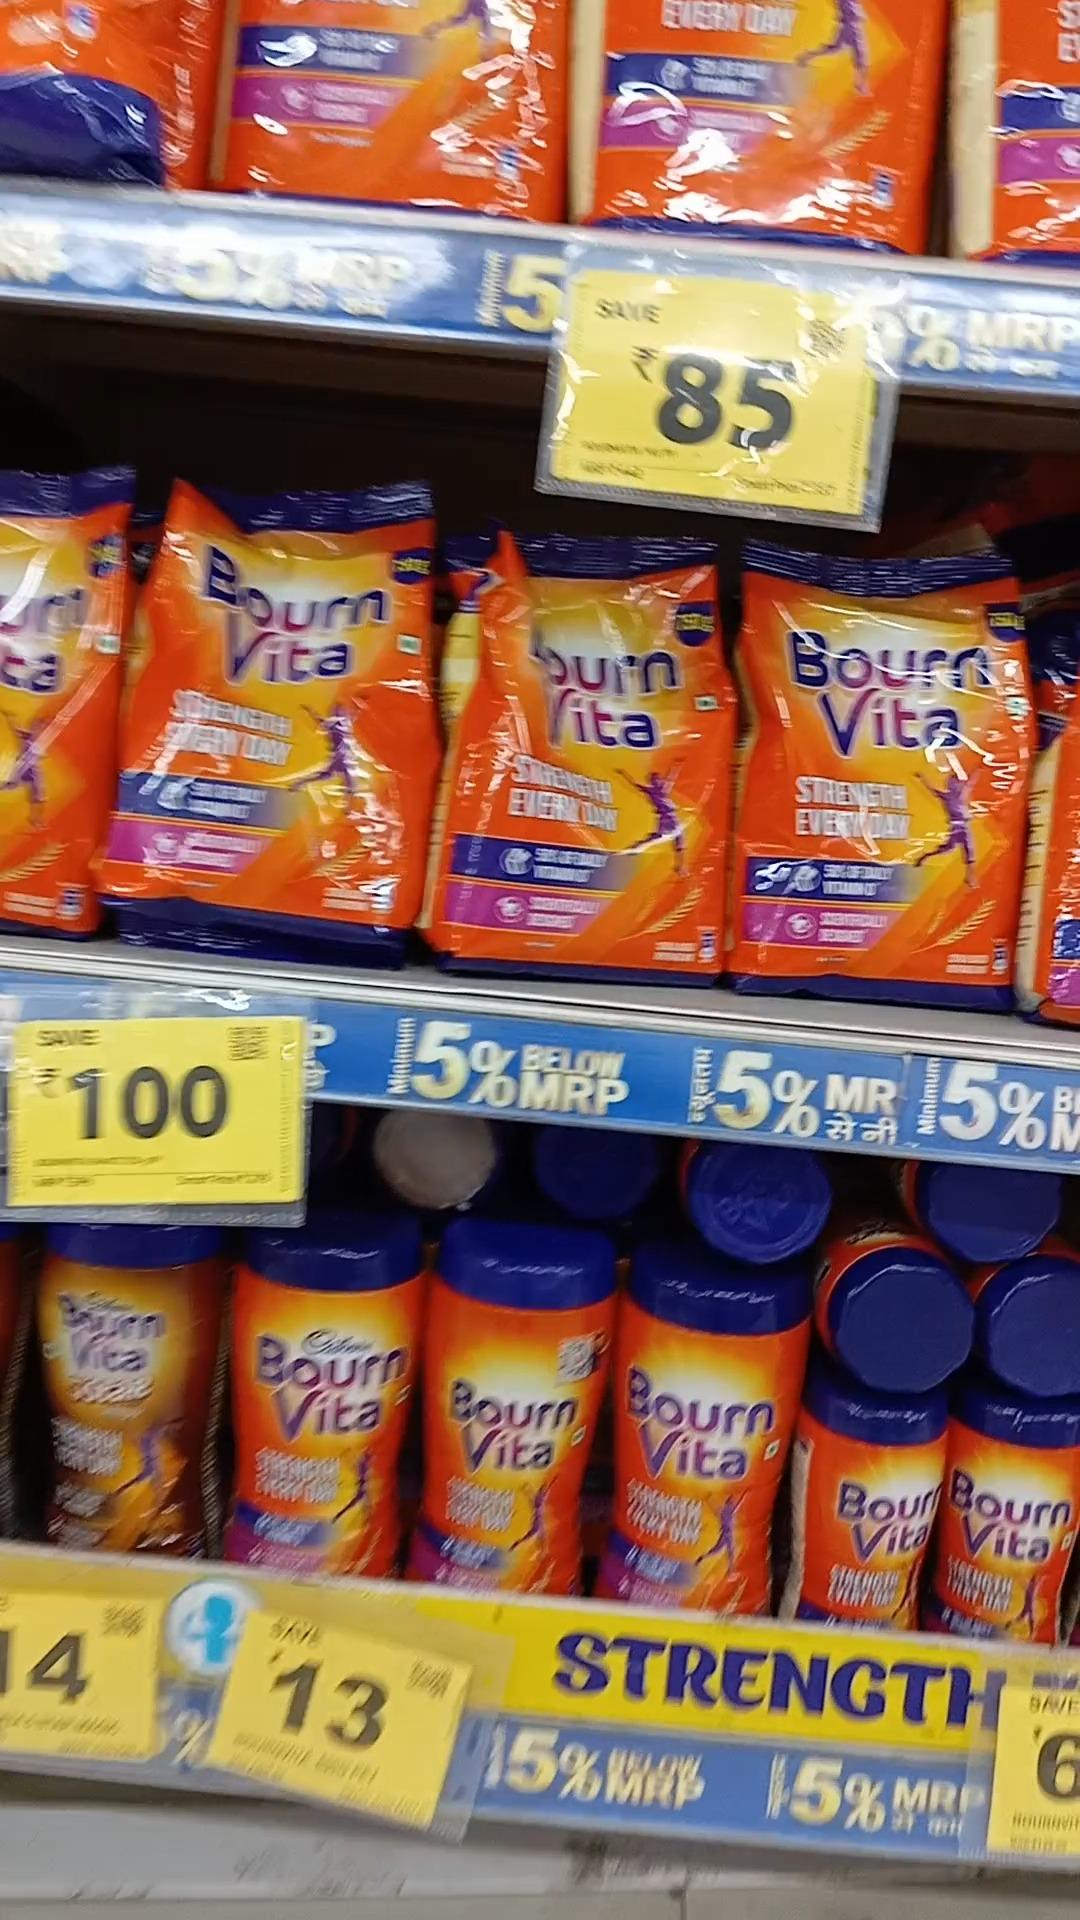BOURN_VITA_200_G_JAR: (795, 1389, 928, 1633), (953, 1379, 1071, 1640)
BOURN_VITA_500_G_JAR: (427, 1213, 576, 1593), (620, 1258, 774, 1606), (240, 1238, 398, 1564)
BOURN_VITA_750_G_POUCH: (456, 525, 724, 985), (152, 481, 409, 949), (741, 543, 1001, 988)
BOURN_VITA_FIVE_STAR_MAGIC_500_G_JAR: (38, 1229, 225, 1552)
